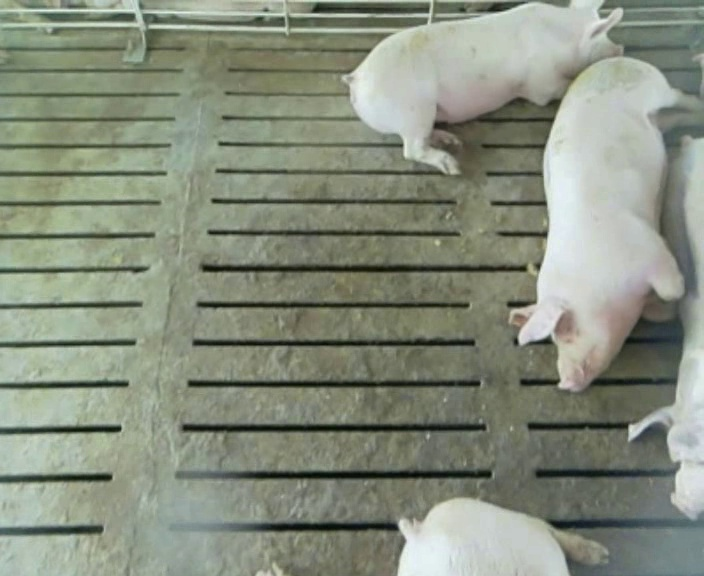pig: (510, 58, 703, 391), (343, 2, 622, 173), (628, 138, 703, 518), (398, 498, 607, 574)
